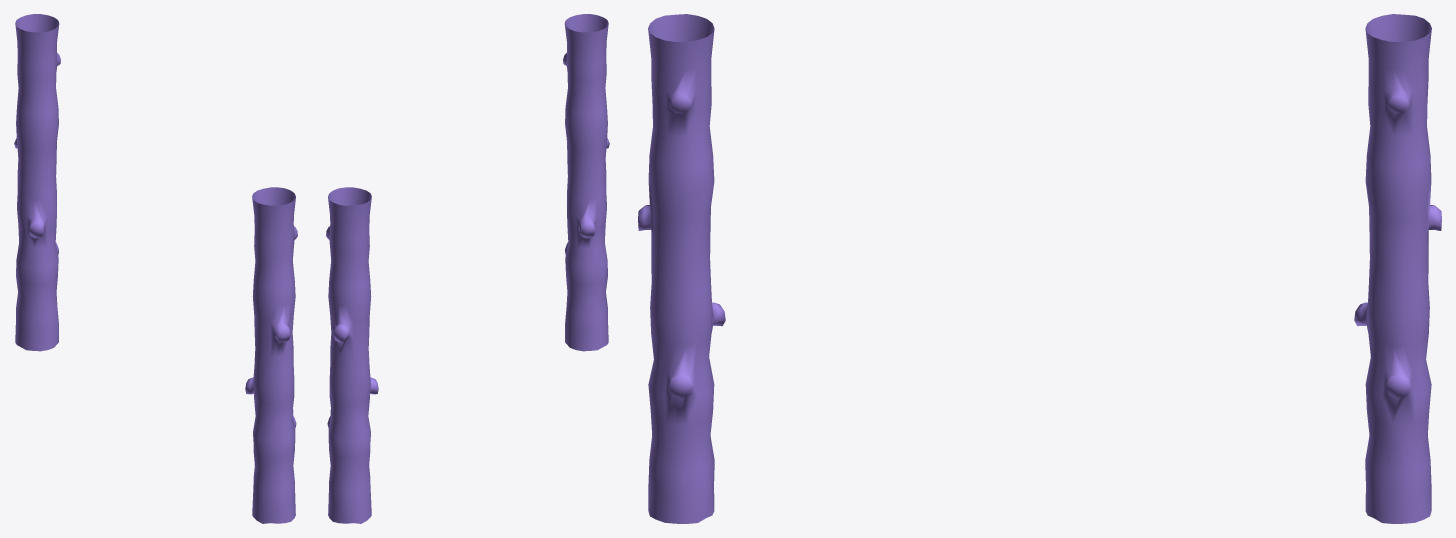
The model's file is pillier.fbx.
The picture shows the model from 3 angles, left to right: view 1: azimuth 30°, elevation 25°; view 2: azimuth 150°, elevation 25°; view 3: azimuth 270°, elevation 25°; orthographic projection. The views are drawn at different scales.
Parts seen in each view (by area): view 1: tronc_grand_hight.005; view 2: tronc_grand_hight.005; view 3: tronc_grand_hight.005.
Boxes of the visible parts, x1,y1,x2,y2 form: tronc_grand_hight.005: [14, 14, 297, 523]; tronc_grand_hight.005: [326, 14, 609, 523]; tronc_grand_hight.005: [638, 14, 1441, 523].
Bounding box in the file's own units: 14.76 × 1.27 × 9.8.
